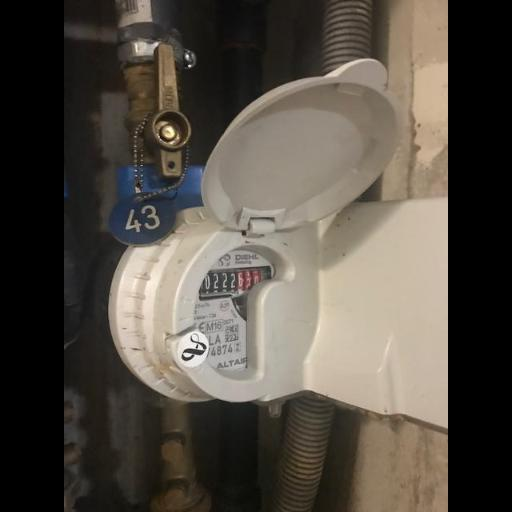0: (202, 271, 212, 293), (251, 268, 261, 286)
1: (244, 270, 253, 291)
2: (211, 271, 221, 293), (220, 272, 229, 293), (229, 272, 238, 293)
6: (236, 270, 245, 290)
border_water_meter_number: (197, 266, 271, 297)
